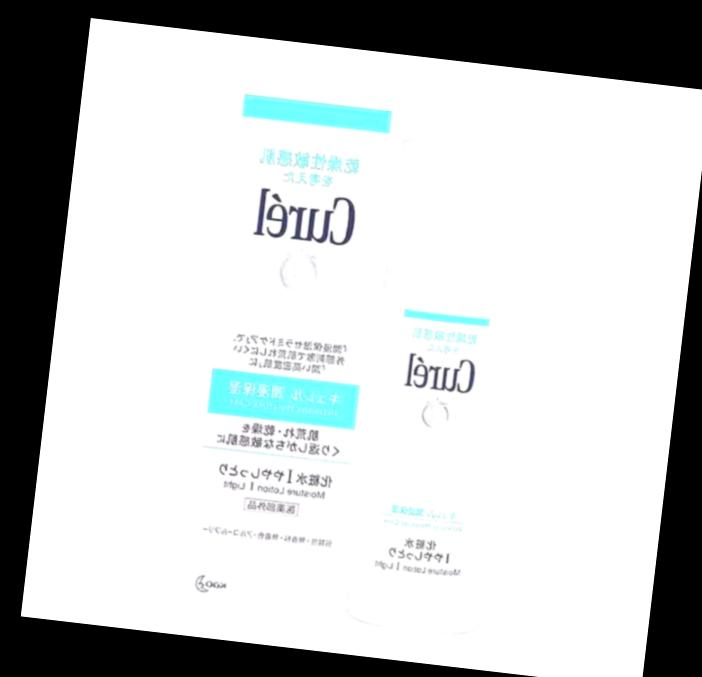cosmetic: (342, 137, 534, 625)
